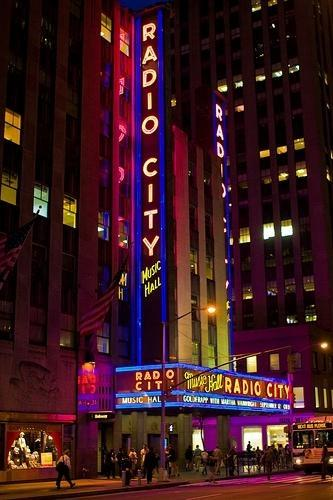bus: (286, 422, 333, 476)
